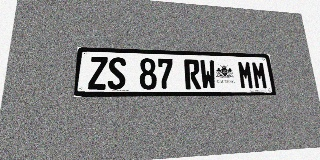7: (157, 58, 174, 89)
8: (140, 58, 157, 89)
M: (237, 61, 254, 89), (251, 61, 268, 89)
R: (184, 59, 201, 89)
S: (107, 57, 126, 90)
W: (199, 60, 217, 89)
Z: (88, 56, 108, 90)
